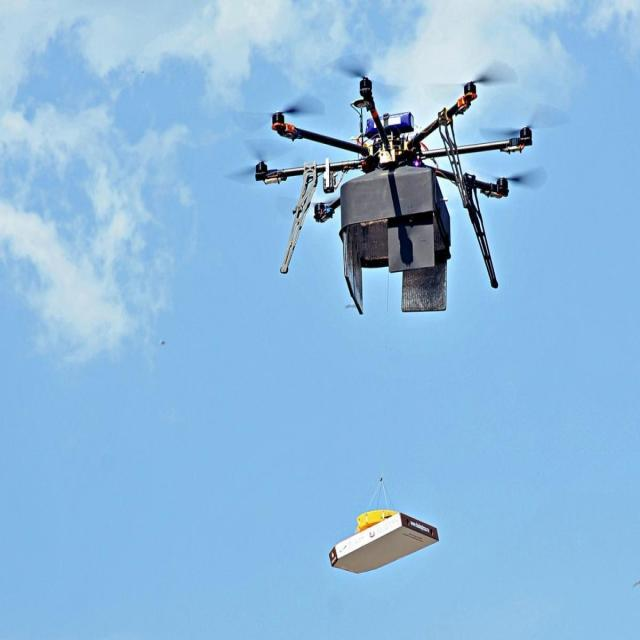drone: (249, 66, 537, 318)
